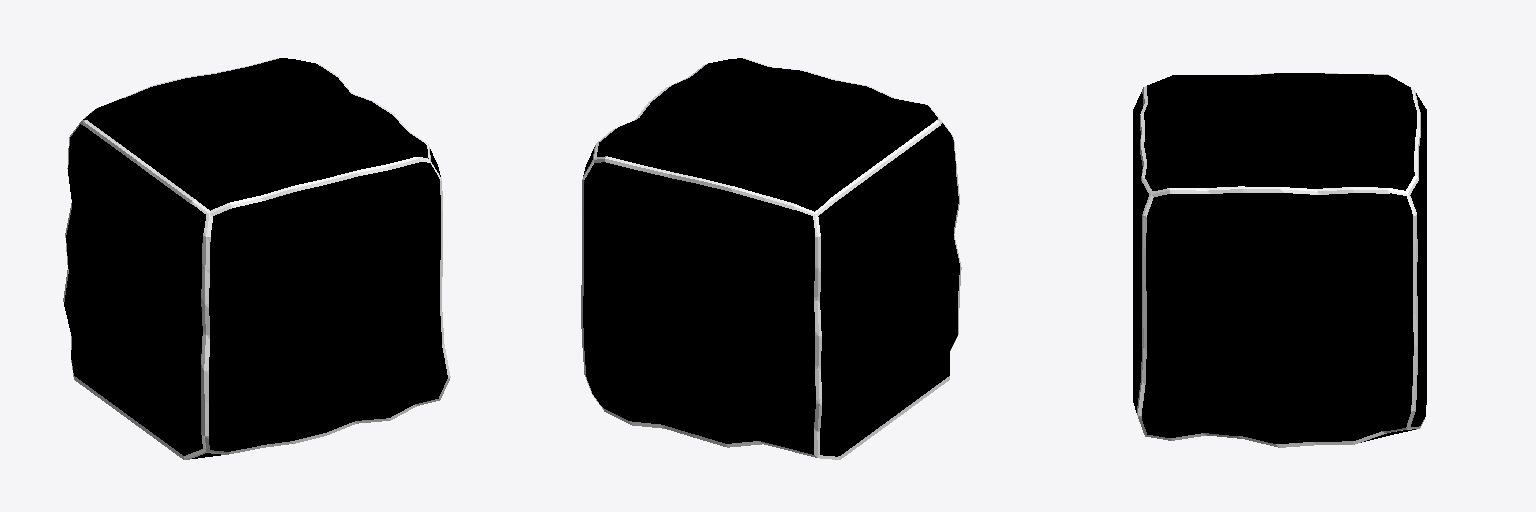
The picture shows the model from 3 angles: view 1: azimuth 30°, elevation 25°; view 2: azimuth 150°, elevation 25°; view 3: azimuth 270°, elevation 25°; orthographic projection.
Visible parts, largest first — view 1: 立方体; view 2: 立方体; view 3: 立方体.
Boxes of the visible parts, x1,y1,x2,y2 form: 立方体: [63, 58, 450, 459]; 立方体: [581, 58, 961, 459]; 立方体: [1133, 73, 1426, 447].
Bounding box in the file's own units: 1 × 1 × 1.
1 materials, 1 textured.